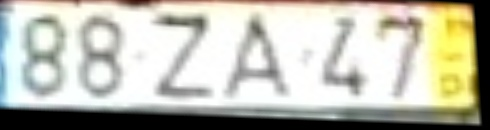4: (317, 15, 374, 101)
7: (374, 14, 431, 103)
8: (17, 12, 75, 102), (75, 12, 130, 103)
A: (219, 11, 298, 101)
Z: (146, 12, 220, 102)
